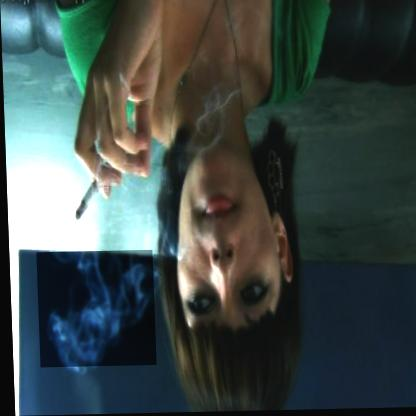smoke: (34, 251, 154, 367)
